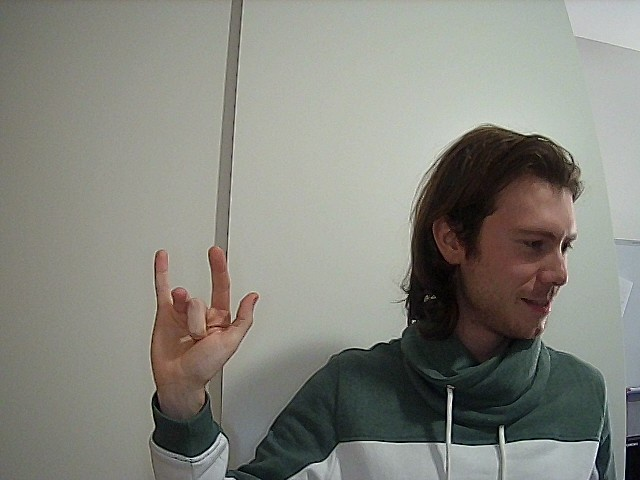reset: (143, 239, 267, 391)
